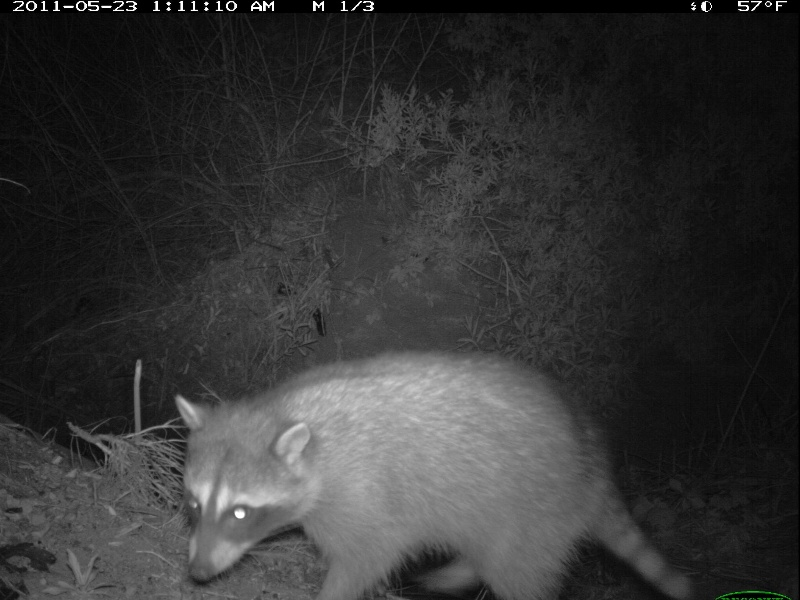raccoon: (171, 344, 698, 595)
